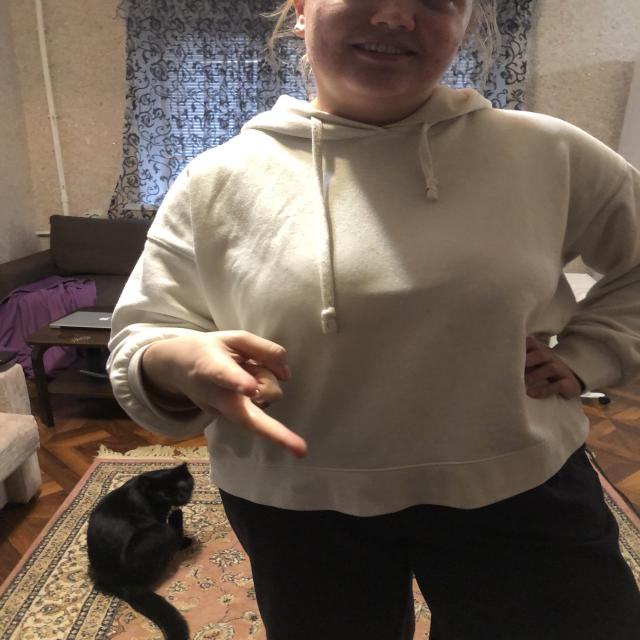scissors: (170, 329, 310, 461)
